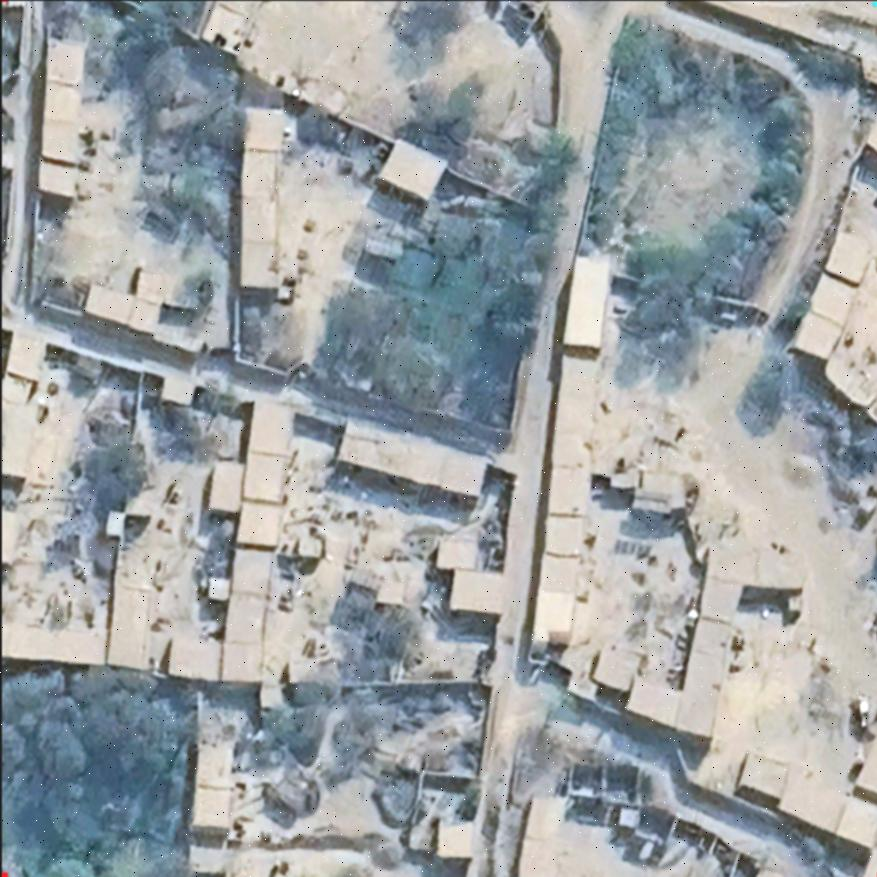Solarpanel: (610, 536, 638, 555)
